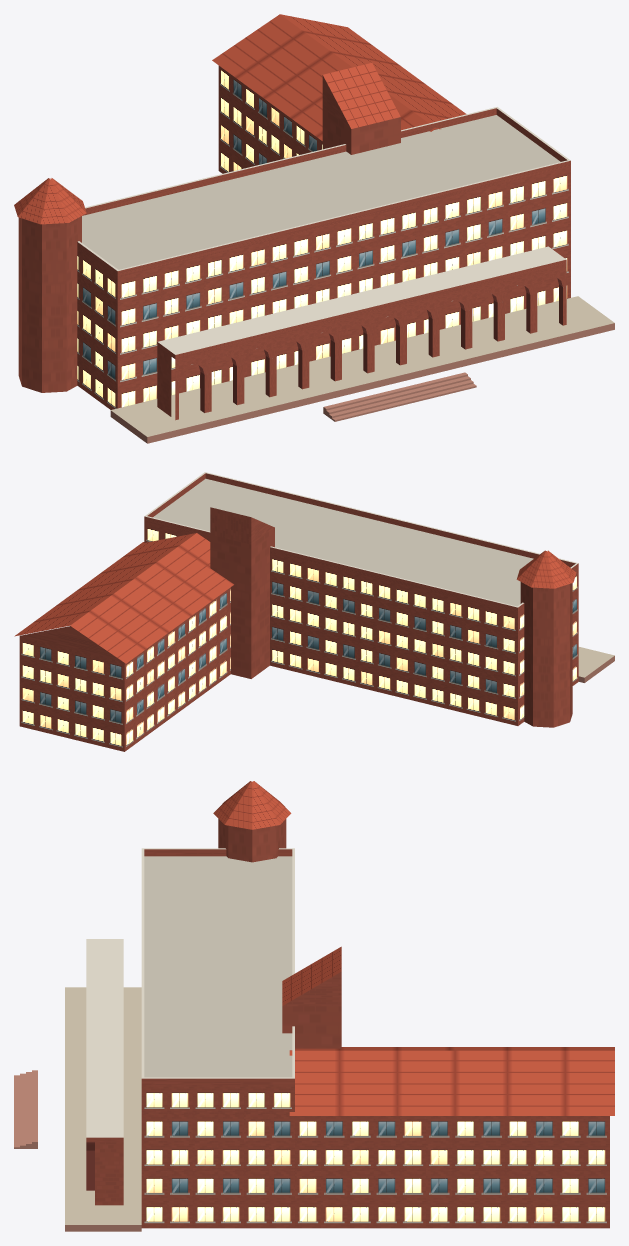
Rendered from liberal-arts.glb.
3 views of the same model, one above another, from view 1: azimuth 30°, elevation 25°; view 2: azimuth 150°, elevation 25°; view 3: azimuth 270°, elevation 25° (orthographic). The views are drawn at different scales.
Parts seen in each view (by area): view 1: liberal-arts.001; view 2: liberal-arts.001; view 3: liberal-arts.001.
Part boxes in pixels (x1=…): liberal-arts.001: x1=14, y1=14, x2=614, y2=443; liberal-arts.001: x1=14, y1=472, x2=614, y2=751; liberal-arts.001: x1=14, y1=781, x2=614, y2=1231.
Size of the model in its own units: 71.6 by 27.2 by 70.6.
Materials: 1 (1 with a texture image).
